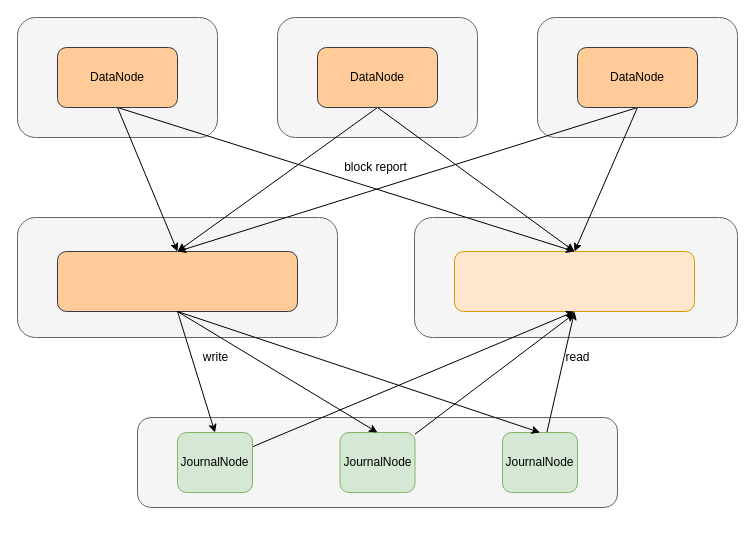
This 755x546 diagram has some shape labels left out. Each missing label, with the box of its shape:
NameNode Active: (56, 250, 298, 312)
NameNode Standby: (454, 250, 694, 312)
Quorum Journal Manager: (136, 416, 618, 508)
